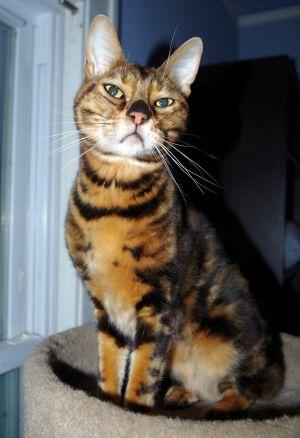bengal: (69, 13, 210, 162)
